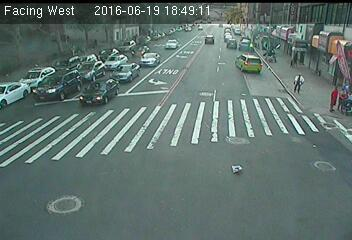neg: (227, 156, 248, 183), (332, 49, 349, 72), (56, 47, 72, 68), (107, 74, 122, 95), (246, 33, 260, 52), (279, 28, 290, 42), (134, 45, 144, 58), (283, 49, 293, 62)
pos: (323, 83, 347, 115), (287, 68, 308, 97), (333, 88, 351, 115)
